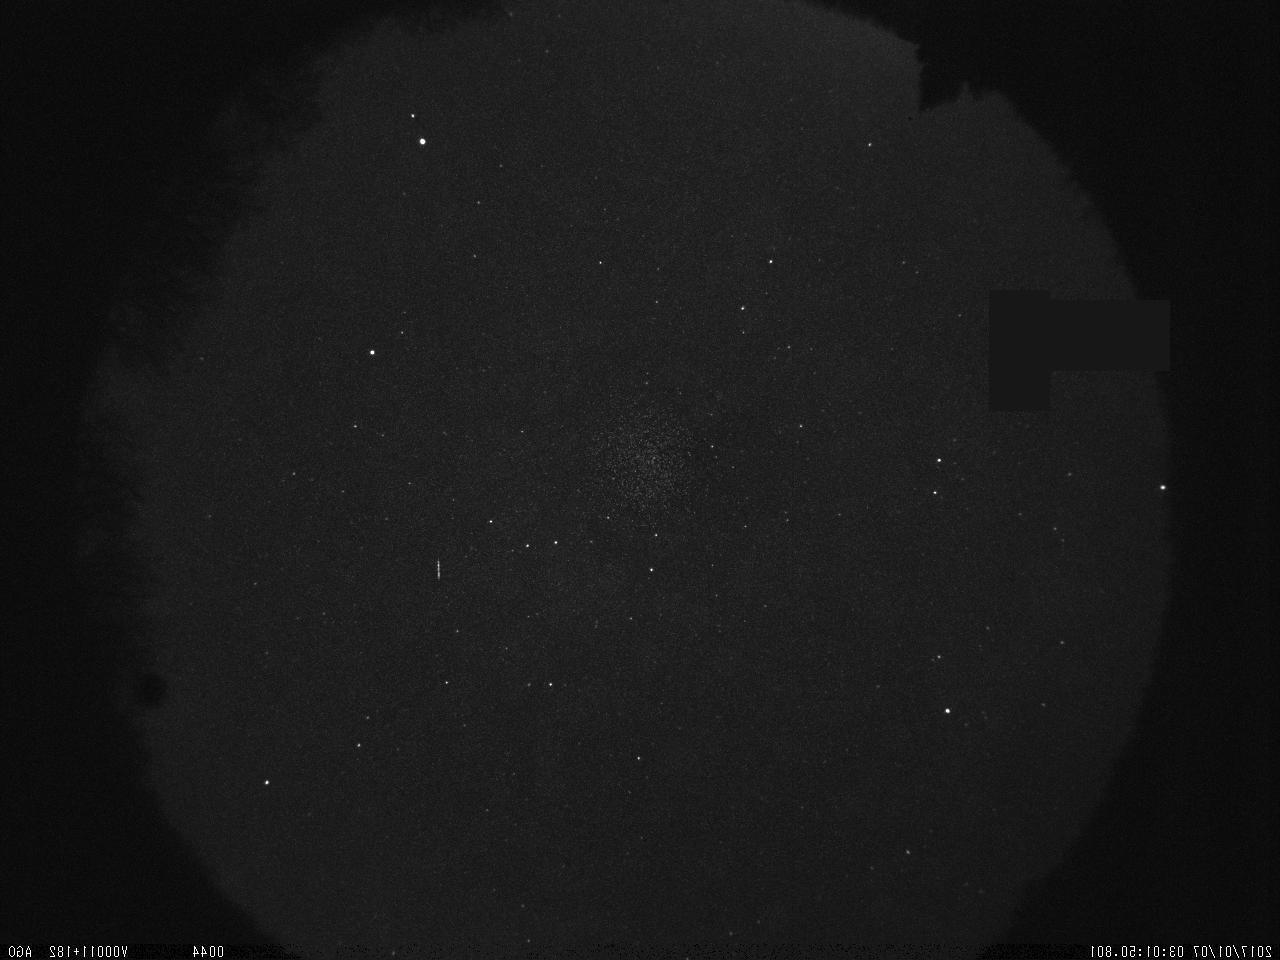meteor: (426, 554, 450, 586)
